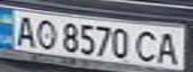0: (109, 25, 133, 60)
5: (75, 21, 96, 56)
7: (93, 24, 115, 57)
8: (57, 19, 81, 54)
A: (154, 29, 184, 65), (9, 12, 39, 47)
C: (133, 28, 163, 64)
O: (30, 17, 60, 51)
